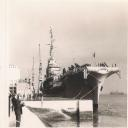Portanaves: (38, 26, 124, 110)
